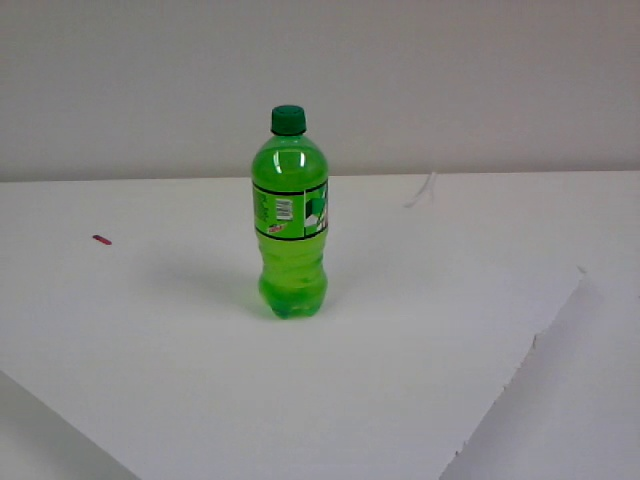botolplastik: (252, 106, 329, 320)
